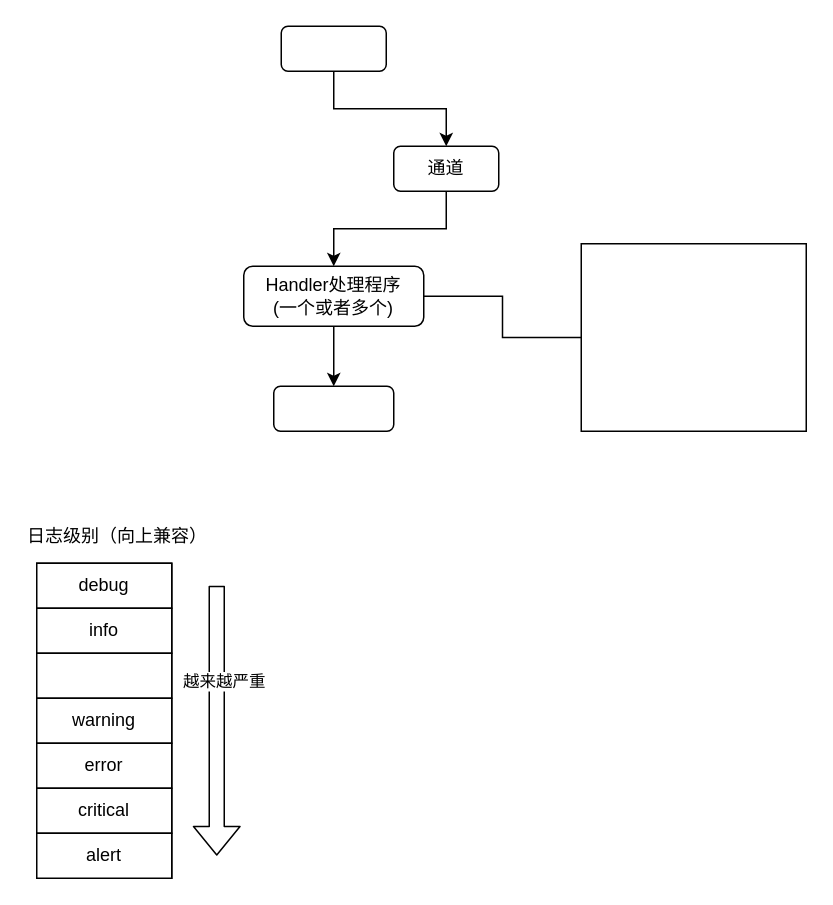
The diagram is 833 pixels wide and 905 high, and some of its shapes have lost their labels. Here are the shapes that lost their labels. From the top down, the box of each, then its label:
(280, 25, 386, 71): monolog
(580, 242, 806, 431): pushHandler() 多种格式；写入文件、邮件、redis、mongo等 1、入栈 2、是否冒泡，即是否继续执行下去
(272, 385, 394, 431): 日志内容
(35, 652, 172, 698): notice
